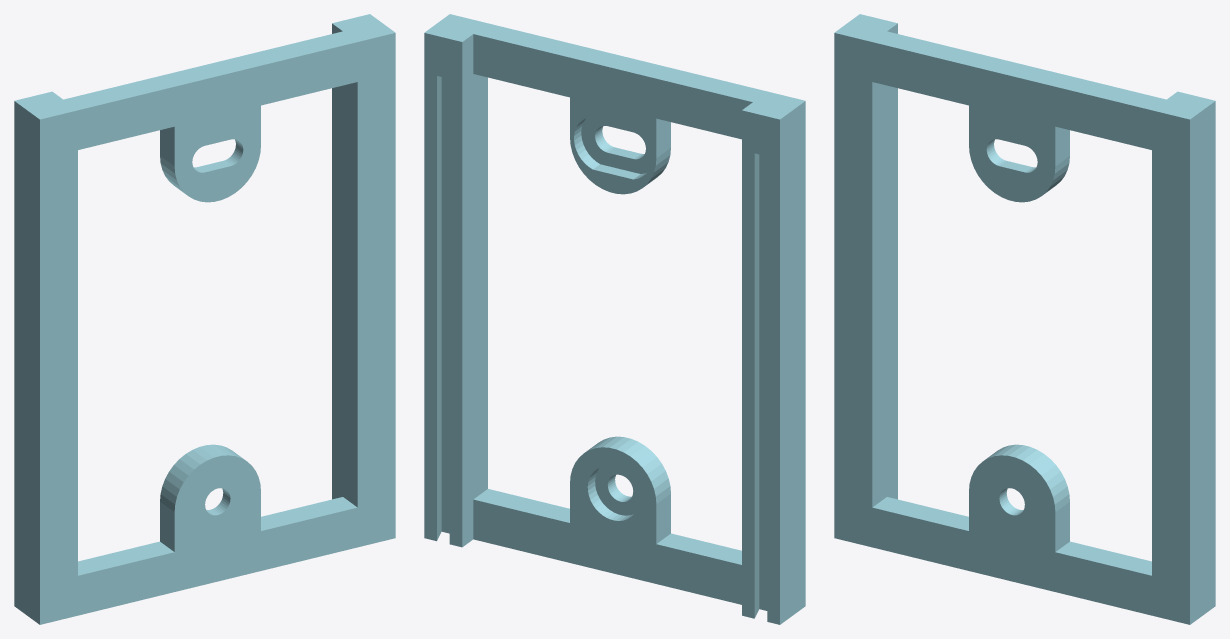
The model's file is BackPlate.glb.
3 views of the same model, side by side, from view 1: azimuth 30°, elevation 25°; view 2: azimuth 150°, elevation 25°; view 3: azimuth 330°, elevation 25° (orthographic).
Bounding box in the file's own units: 88.9 × 121 × 11.11.
